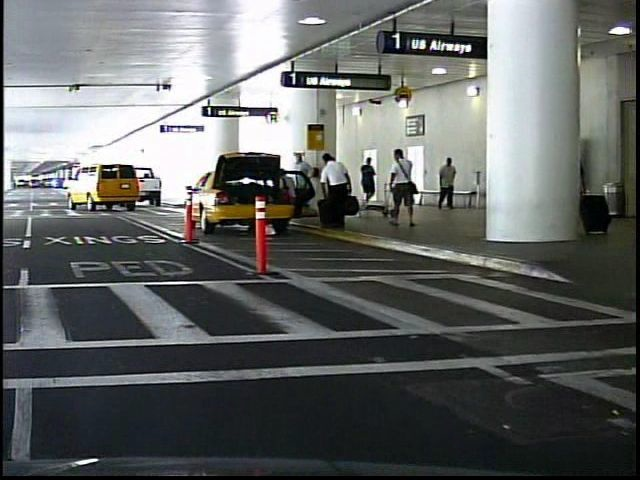person: (382, 145, 419, 230), (433, 152, 455, 215)
